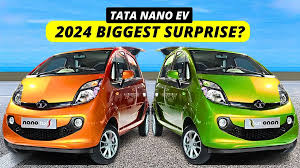Nano: (151, 48, 297, 165), (2, 48, 149, 163)
